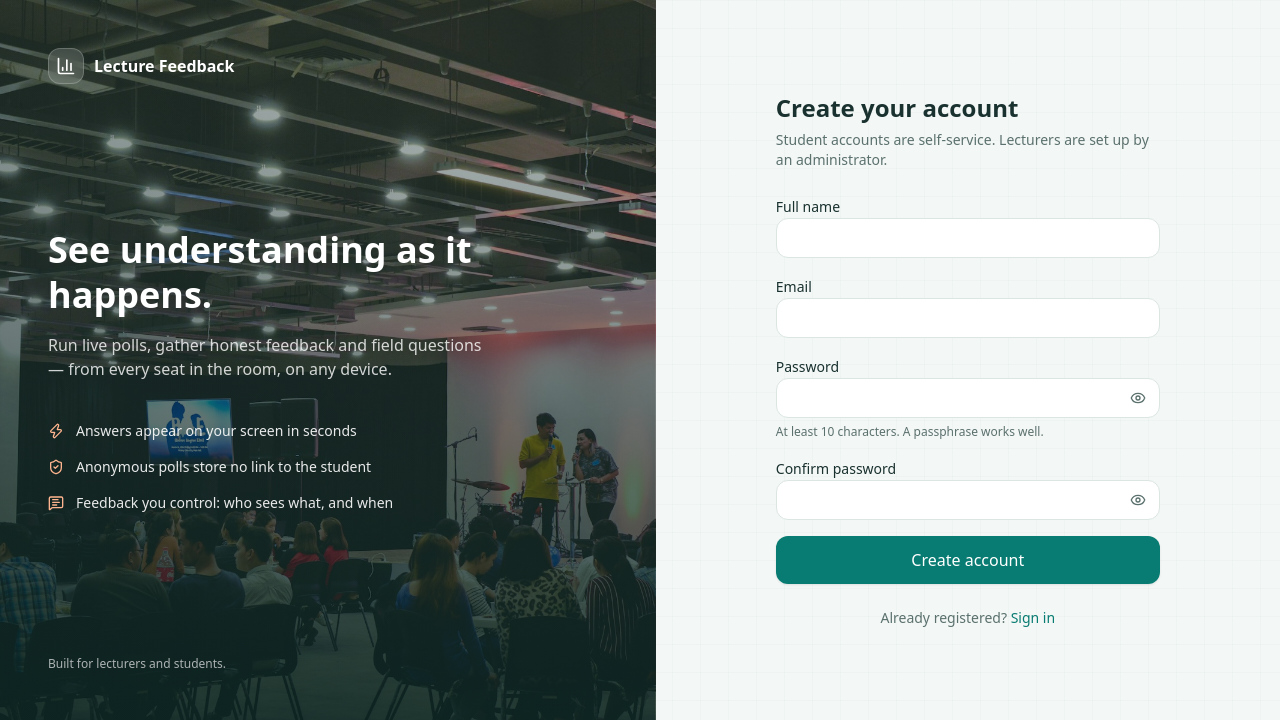
Test: register page › enforces password length and confirmation client-side
The image size is (1280, 720).
Type "Sam" into the field labelled "Full name" at (968,238), box [776,218,1160,258]
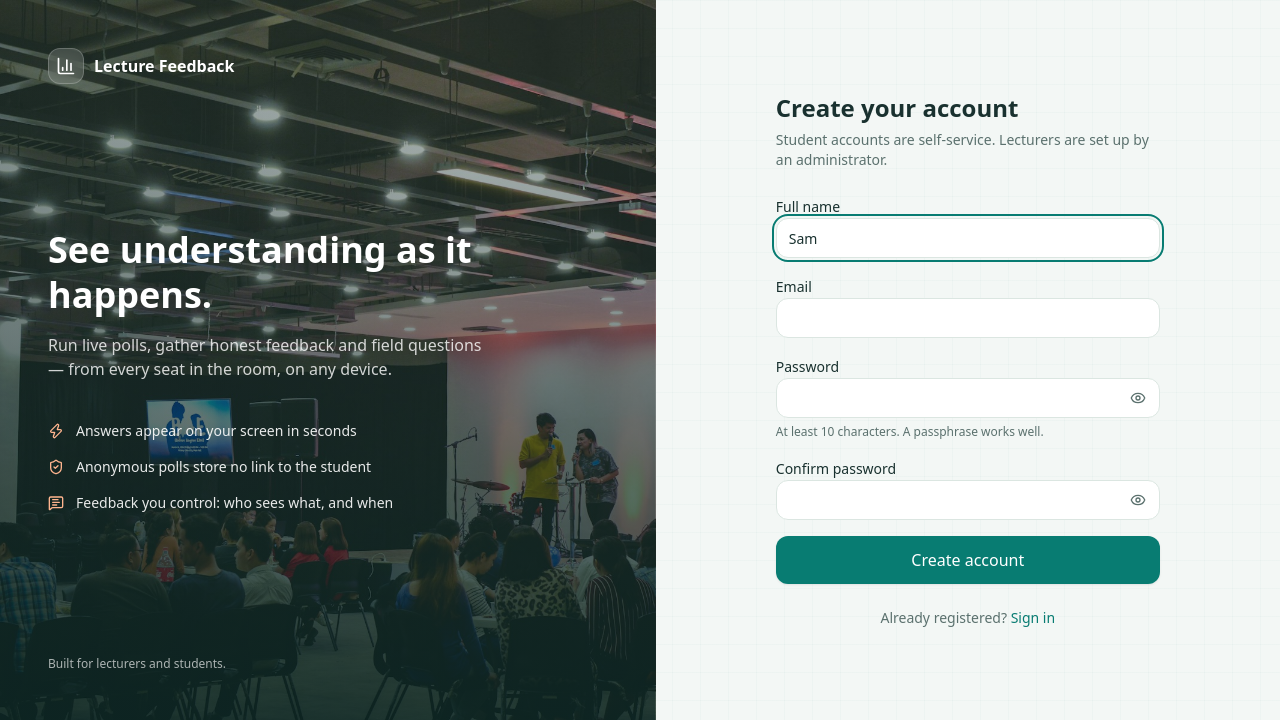
Type "sam@uni.test" into the field labelled "Email" at (968,318), box [776,298,1160,338]
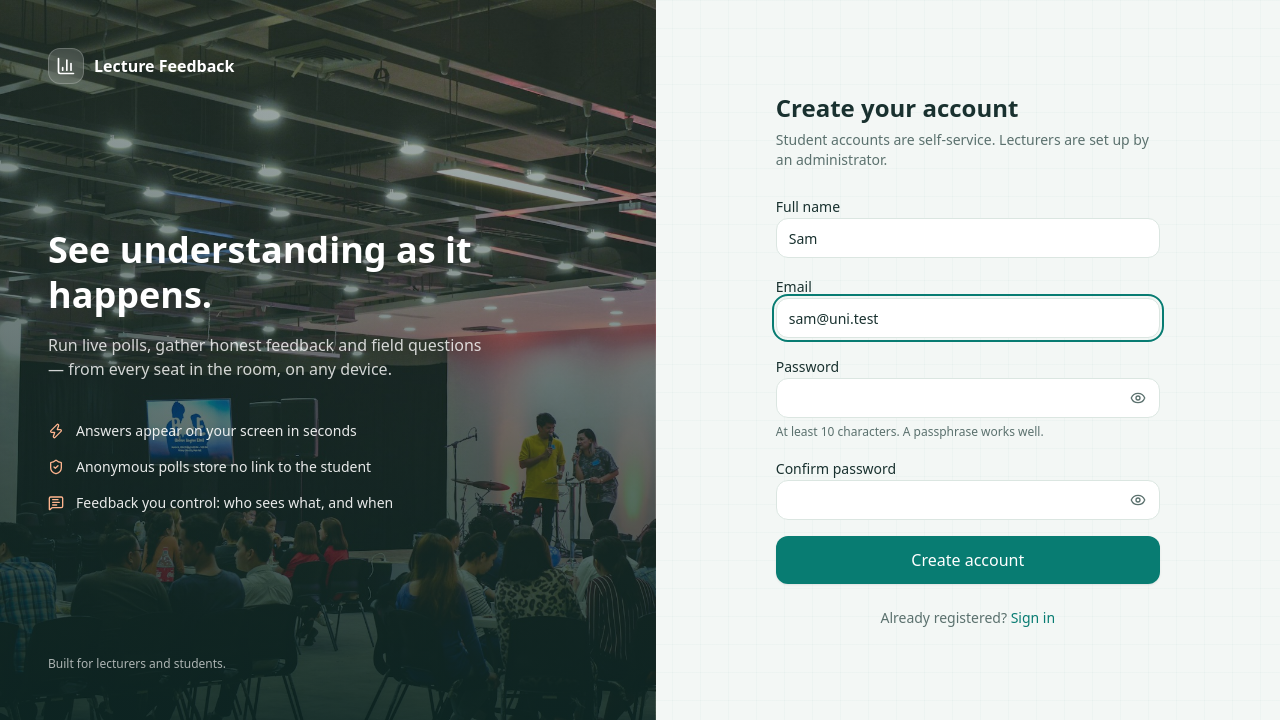
Type "short" into the password field labelled "Password" at (968,398), box [776,378,1160,418]
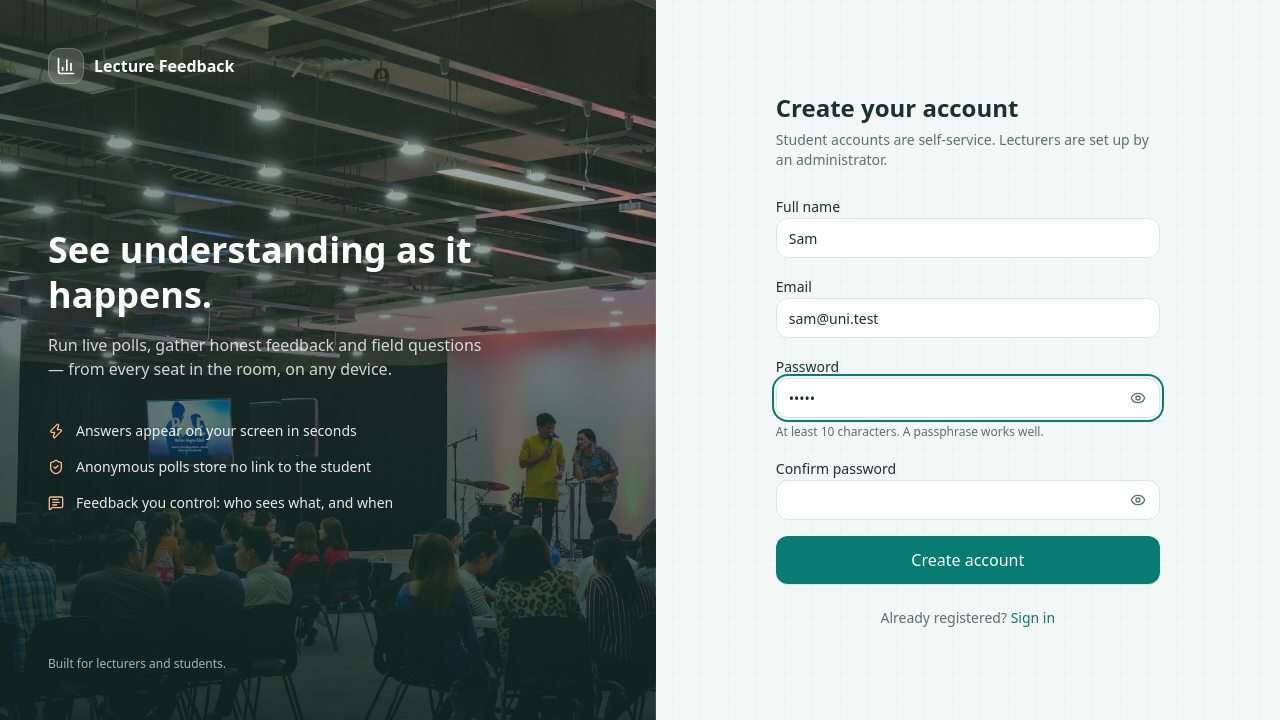
Type "different" into the password field labelled "Confirm password" at (968,500), box [776,480,1160,520]
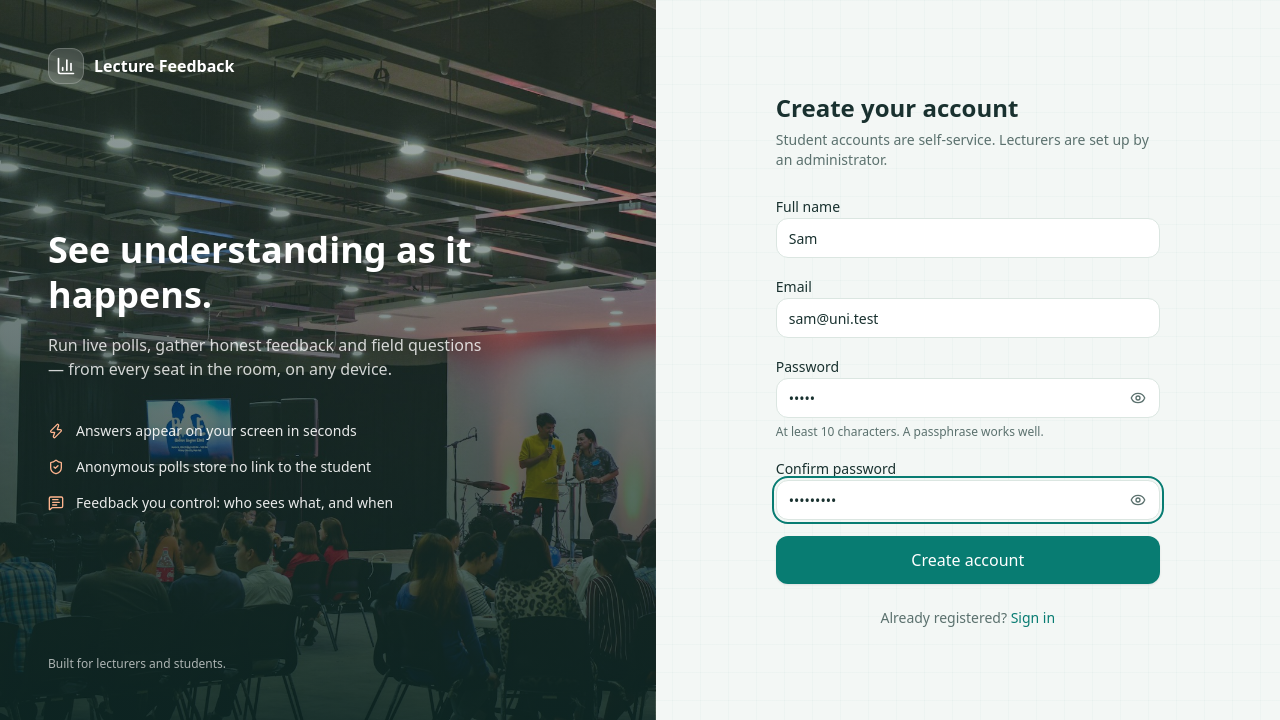
Click the button "Create account" at (968,560), box [776,536,1160,584]
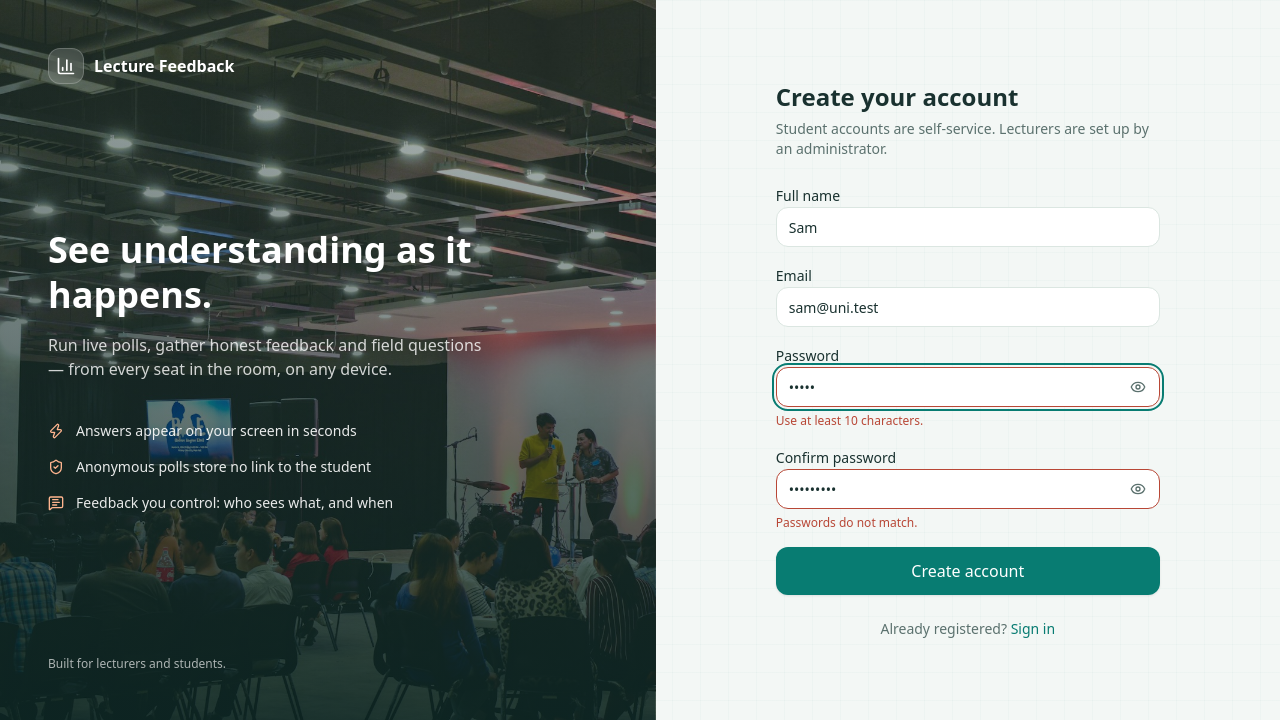
Check: the text "Use at least 10 characters." is shown, box [776,412,923,429]
